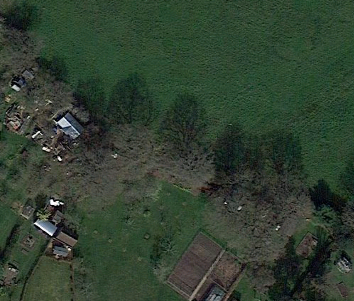tree: (157, 127, 219, 197), (96, 115, 152, 183), (223, 166, 259, 210)
